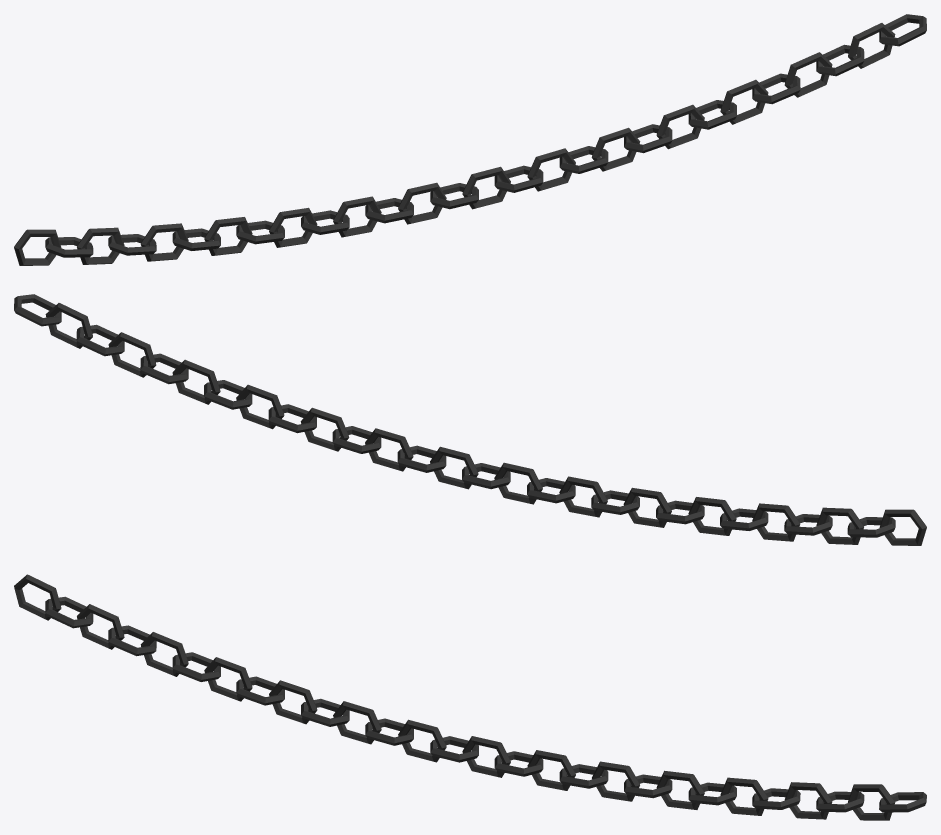
The model's file is Chain_01.fbx.
3 views of the same model, one above another, from view 1: azimuth 30°, elevation 25°; view 2: azimuth 150°, elevation 25°; view 3: azimuth 330°, elevation 25° (orthographic).
Parts seen in each view (by area): view 1: Chain_01_LOD0; view 2: Chain_01_LOD0; view 3: Chain_01_LOD0.
Part boxes in pixels (x1,y1,x2,y2): Chain_01_LOD0: (14,14,926,265); Chain_01_LOD0: (14,294,926,545); Chain_01_LOD0: (14,574,926,820).
Size of what is drawn, in the model's own units: 544 by 50.38 by 20.13.
